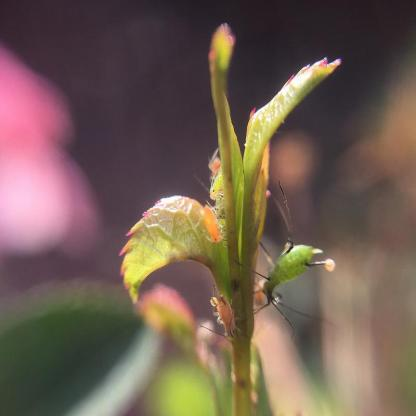aphid: (255, 181, 335, 332), (205, 288, 243, 342), (198, 198, 227, 245), (204, 154, 230, 206)
